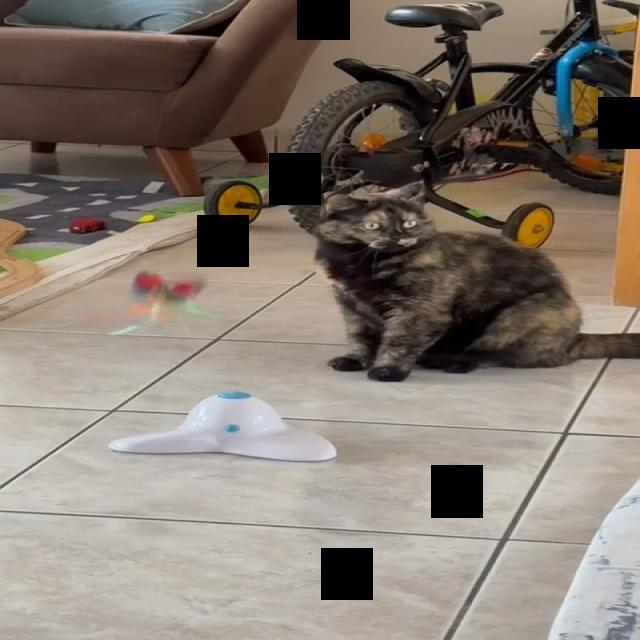authorized: (311, 180, 638, 382)
